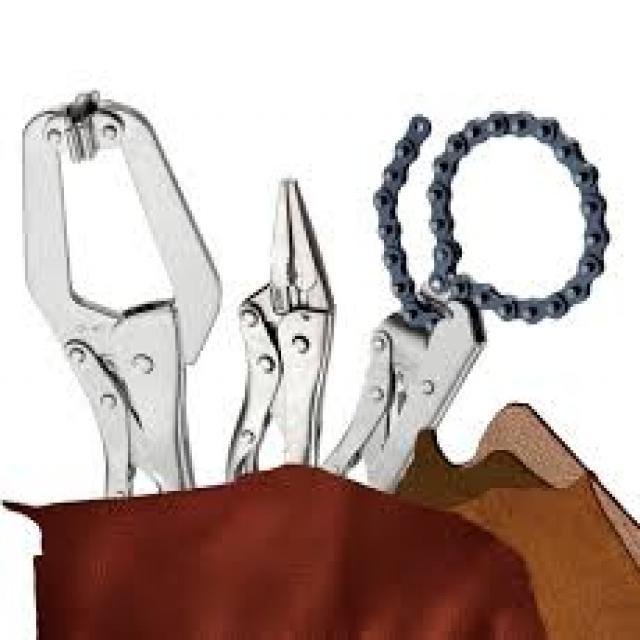pliers: (9, 89, 228, 518), (217, 154, 338, 521)
